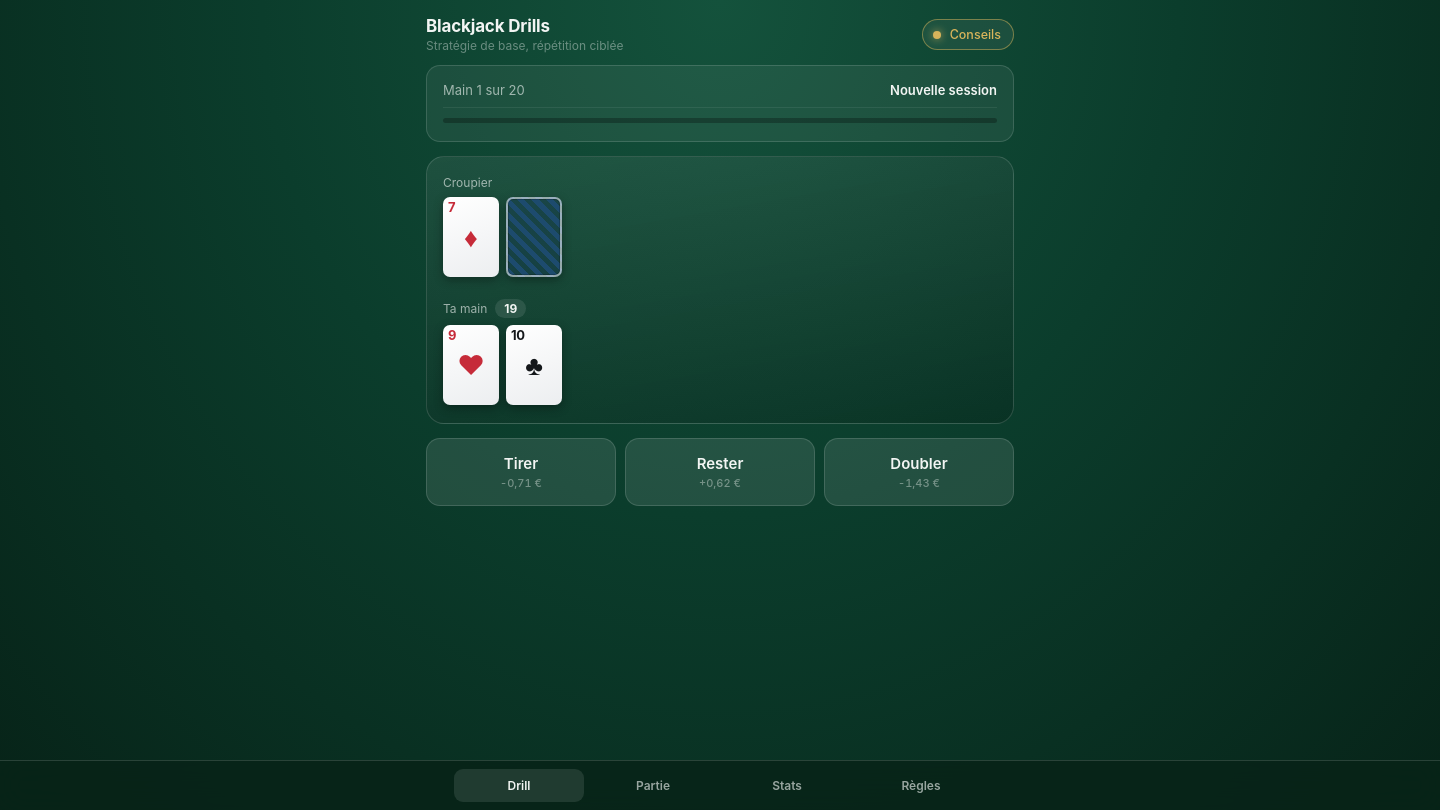
Scenario: mode partie › mise, distribue, joue un coup et règle la bankroll
Click the button "Partie".
click(653, 786)  # box [588,769,718,802]
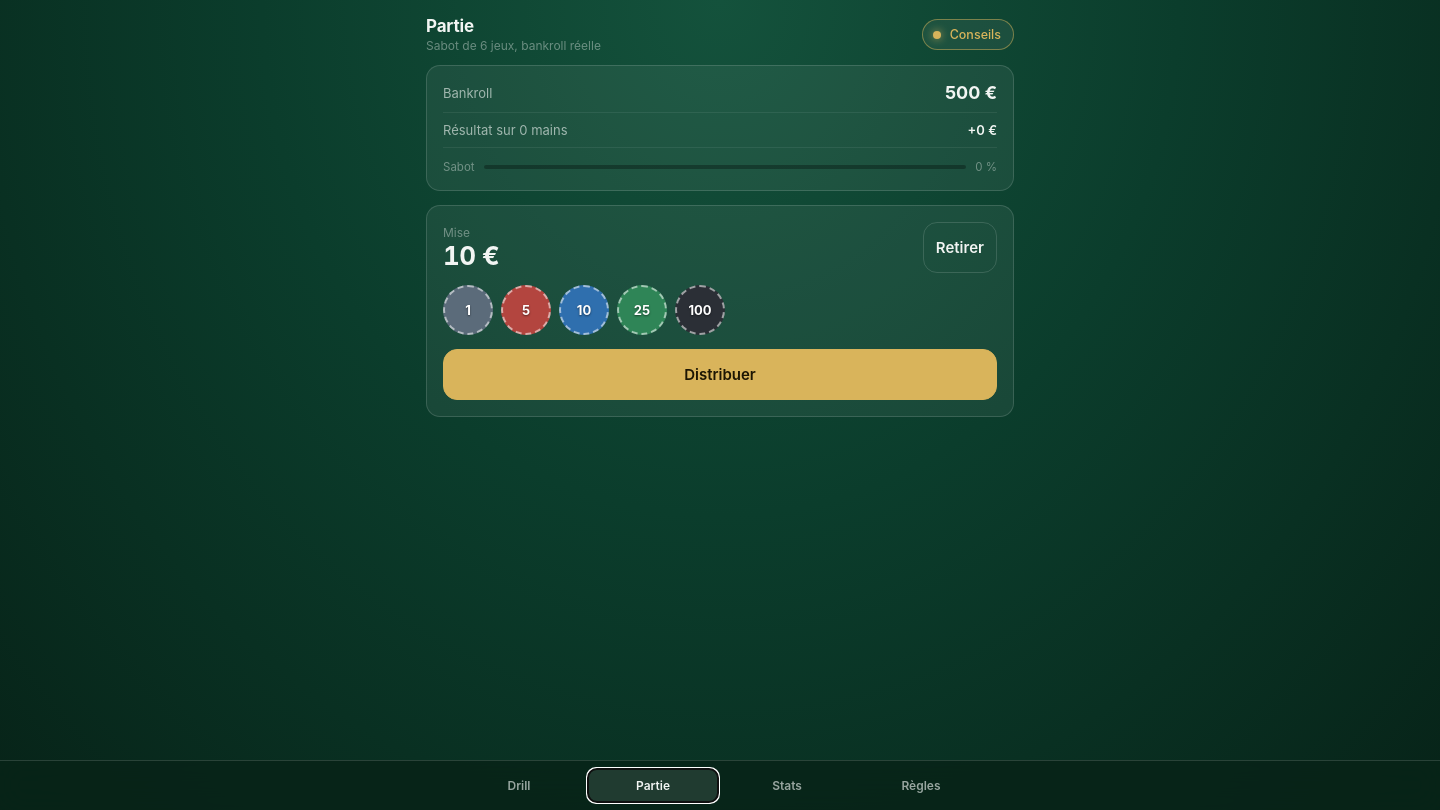
Expected: the text "Bankroll" is shown, [443,84,492,100]
Click the button "Distribuer".
click(720, 374)  # box [443,349,997,400]
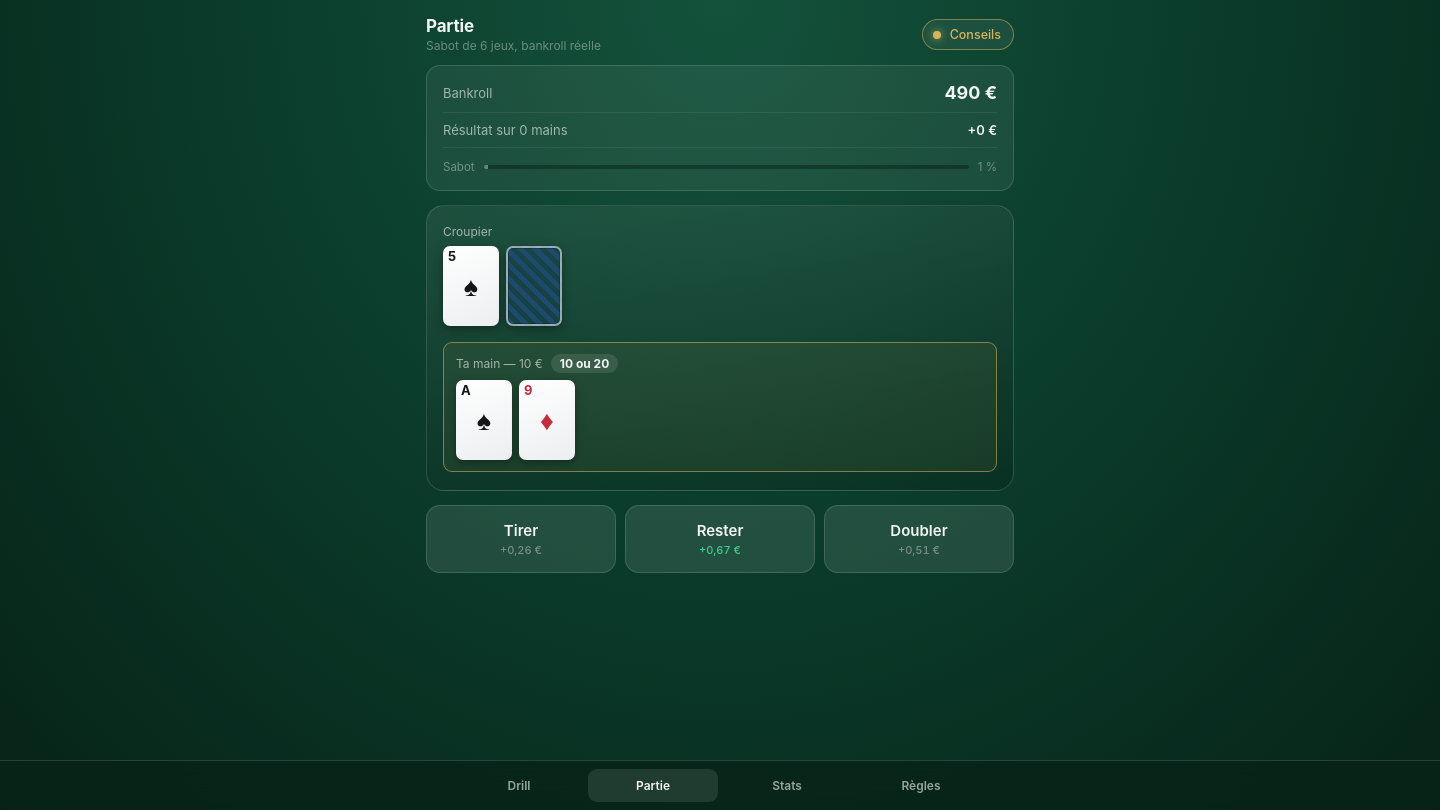
Expected: the text "Croupier" is shown, [443,224,492,239]
Click the button "Rester +0,67 €".
click(720, 539)  # box [625,505,815,573]
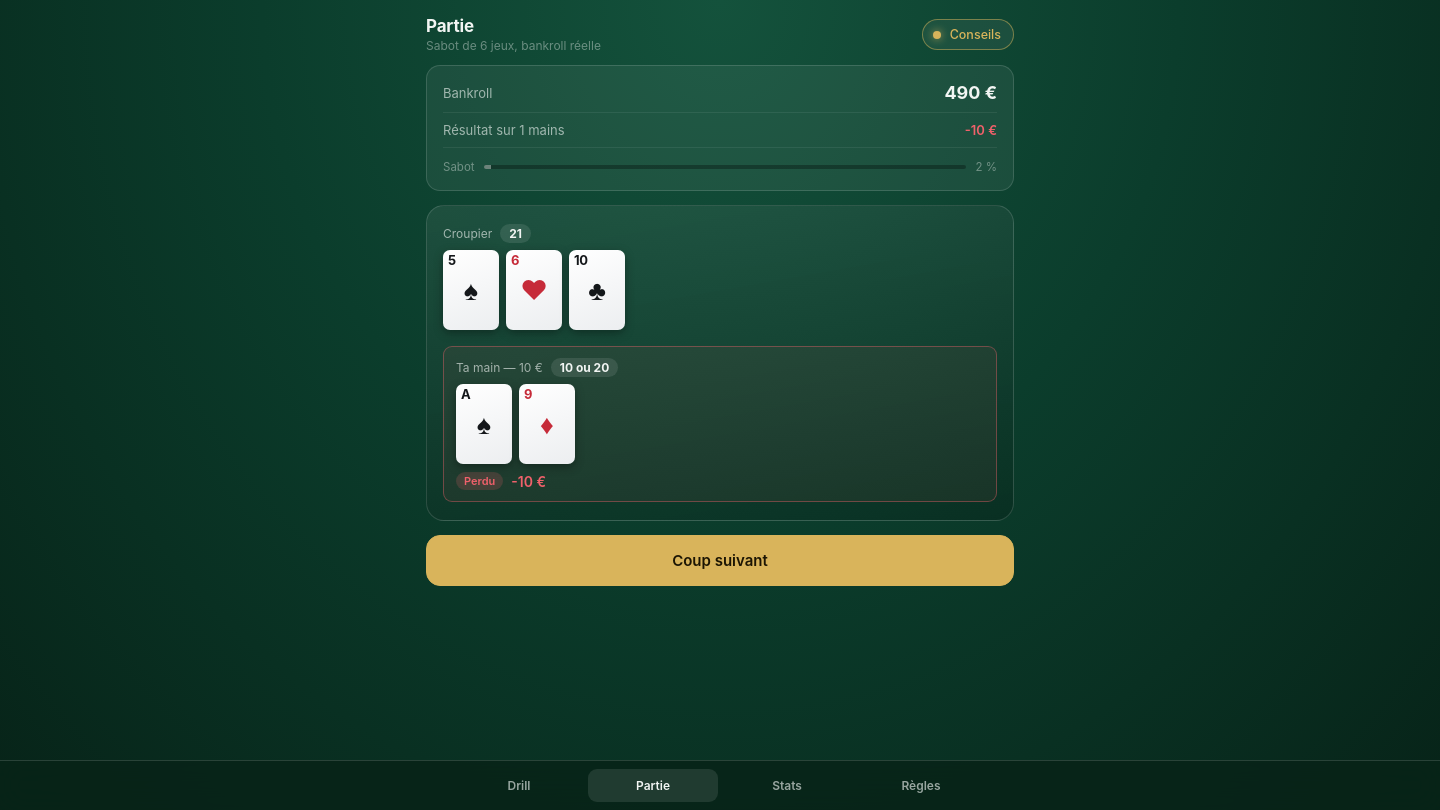
Expected: the button "Coup suivant" is shown, [426,535,1014,586]
Expected: the text "Résultat sur 1 mains" is shown, [443,122,565,138]
